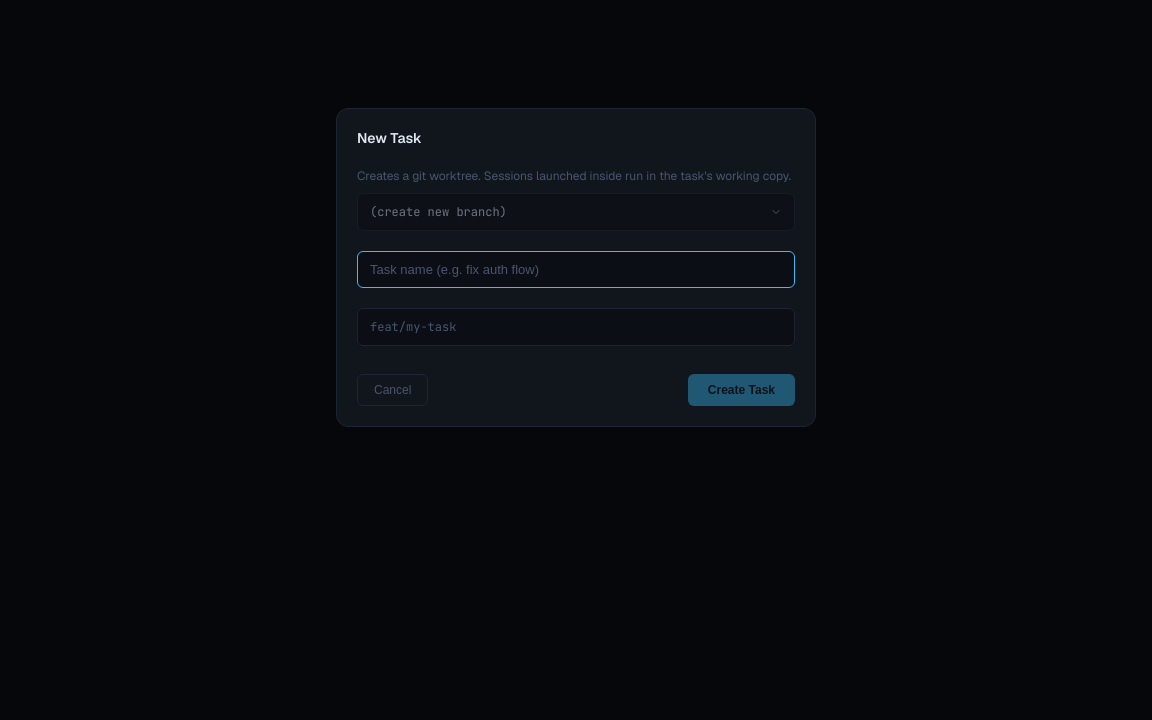
Test: TaskCreateModal › auto-fills branch field live as name is typed
Type "Fix OAuth flow" into the field with placeholder "Task name (e.g. fix auth flow)" at (576, 270), box [357, 251, 795, 288]
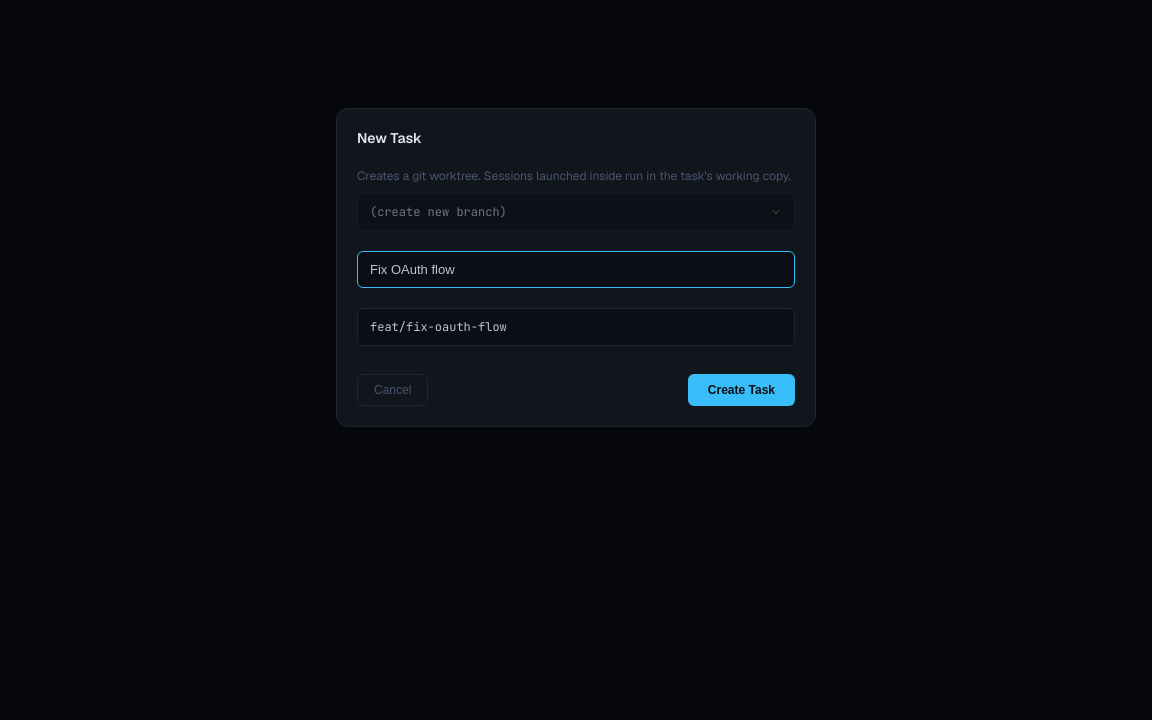
Expected: the 2nd field with placeholder "feat/my-task" holds "feat/fix-oauth-flow", [357, 308, 795, 346]
Replace the text in the 1st field with placeholder "Task name (e.g. fix auth flow)" with "Add WebSocket support" at (576, 270), box [357, 251, 795, 288]
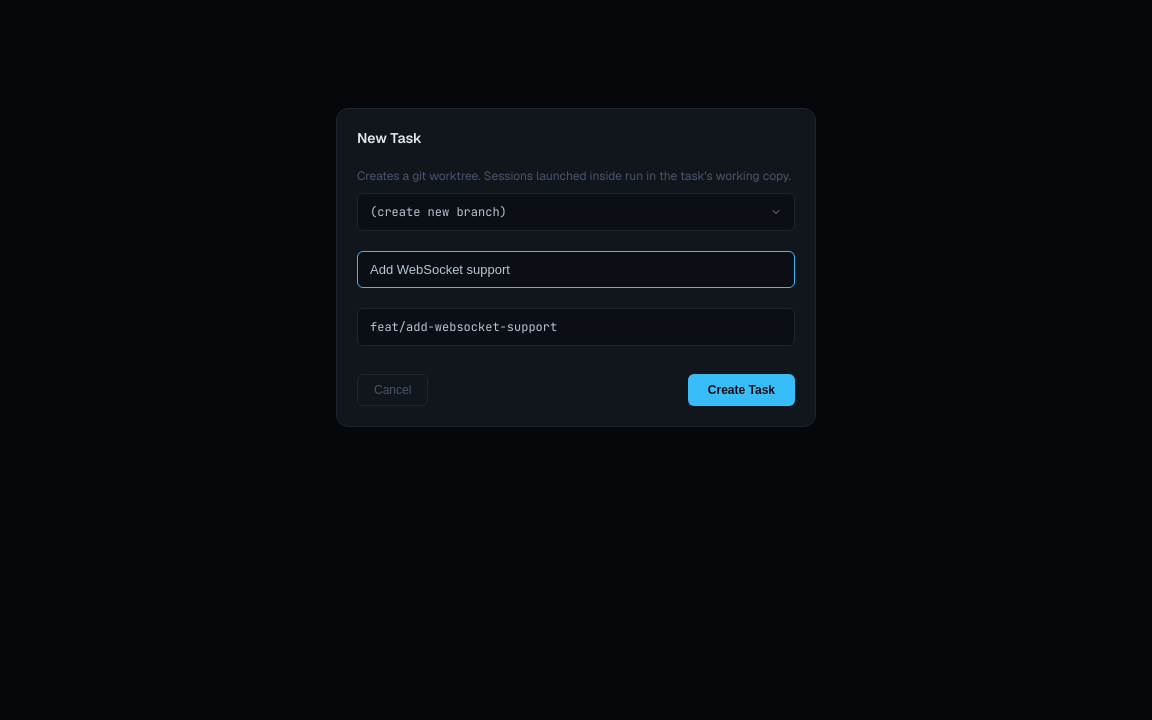
Expected: the 2nd field with placeholder "feat/my-task" holds "feat/add-websocket-support", [357, 308, 795, 346]
